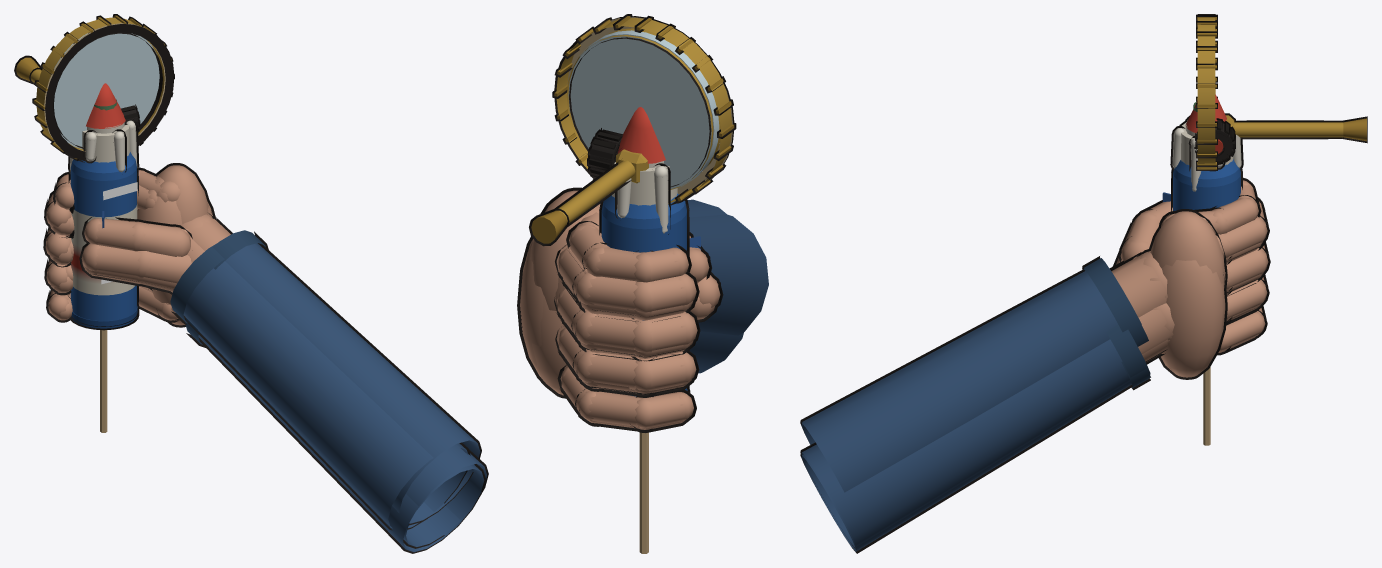
File: tools.glb
3 views of the same model, side by side, from view 1: azimuth 30°, elevation 25°; view 2: azimuth 150°, elevation 25°; view 3: azimuth 270°, elevation 25° (orthographic). The views are drawn at different scales.
Visible parts, largest first — view 1: hand_magnifier, hand_candle, hand_blowtorch, hand_bottle, rocket; view 2: hand_blowtorch, hand_magnifier, hand_candle, hand_bottle, rocket; view 3: hand_candle, hand_blowtorch, hand_bottle, hand_magnifier, rocket.
Part boxes in pixels (<box>): hand_magnifier: <box>32,14,470,530</box>; hand_candle: <box>53,119,481,525</box>; hand_blowtorch: <box>14,55,488,548</box>; hand_bottle: <box>46,99,485,553</box>; rocket: <box>86,83,125,432</box>; hand_blowtorch: <box>517,128,723,431</box>; hand_magnifier: <box>552,14,768,335</box>; hand_candle: <box>528,162,726,310</box>; hand_bottle: <box>520,128,743,432</box>; rocket: <box>617,107,700,553</box>; hand_candle: <box>800,115,1261,492</box>; hand_blowtorch: <box>800,113,1367,550</box>; hand_bottle: <box>800,101,1267,553</box>; hand_magnifier: <box>800,14,1227,422</box>; rocket: <box>1162,94,1226,445</box>.
Size of the model in its own units: 0.472 by 0.7321 by 0.8336.
